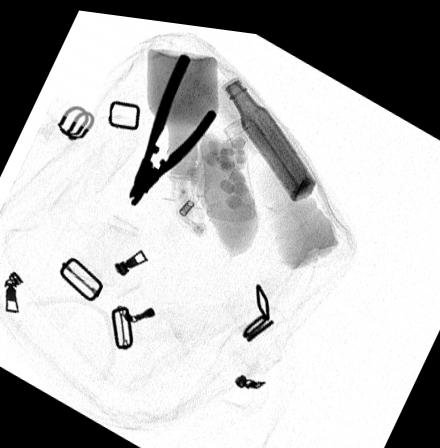Pliers: (127, 48, 221, 204)
